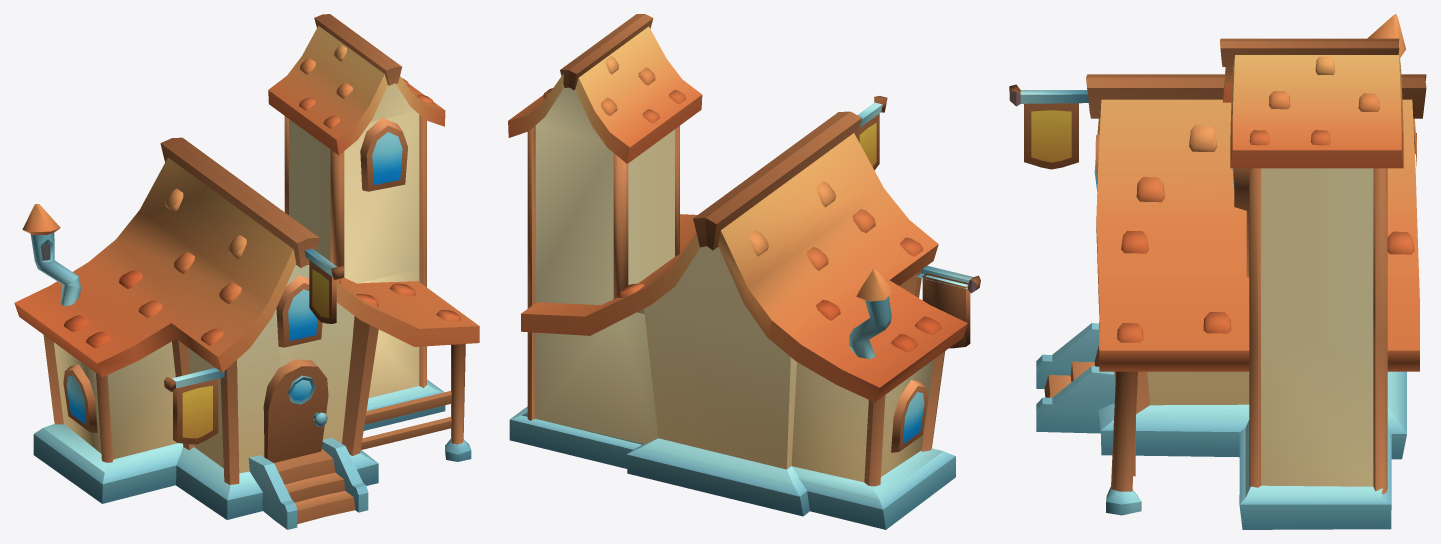
File: env_Tavern_big_v01.fbx
The picture shows the model from 3 angles, left to right: view 1: azimuth 30°, elevation 25°; view 2: azimuth 150°, elevation 25°; view 3: azimuth 270°, elevation 25°; orthographic projection. The views are drawn at different scales.
Visible parts, largest first — view 1: env_Tavern; view 2: env_Tavern; view 3: env_Tavern.
Part boxes in pixels (x1=…): env_Tavern: x1=14, y1=14, x2=479, y2=529; env_Tavern: x1=508, y1=14, x2=980, y2=529; env_Tavern: x1=1009, y1=14, x2=1426, y2=529.
Size of the model in its own units: 867 by 840 by 701.
